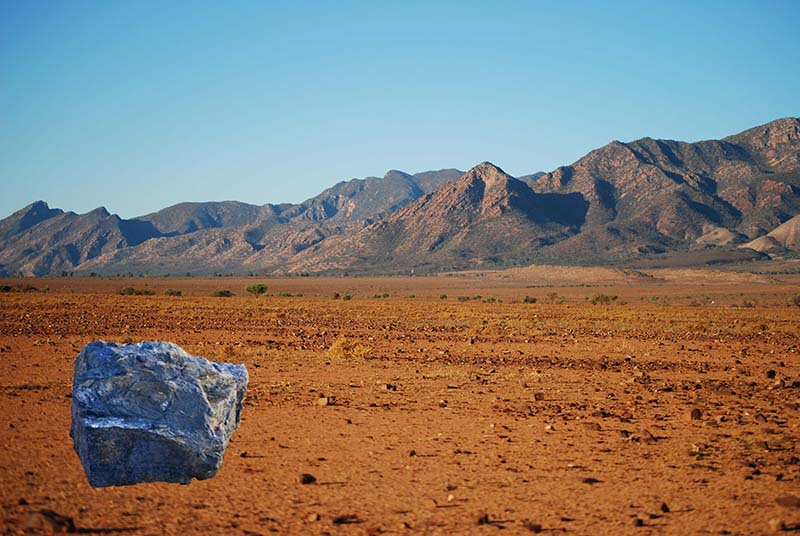Rocks: (65, 337, 253, 490)
